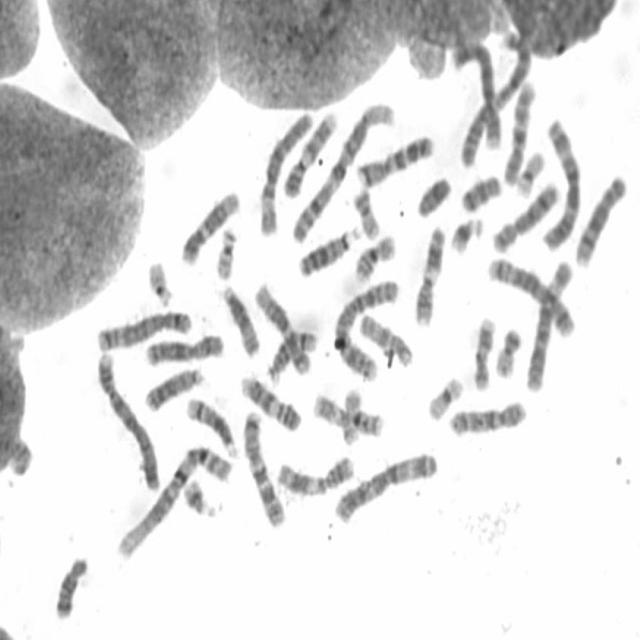A1: (285, 93, 398, 244), (112, 438, 235, 562)
A2: (454, 23, 534, 170), (329, 272, 401, 382)
A3: (329, 443, 441, 526), (538, 110, 583, 252)
B4: (92, 342, 163, 493), (446, 31, 505, 152)
B5: (483, 248, 578, 340), (92, 302, 195, 353)
C10: (498, 72, 538, 188), (444, 392, 529, 439)
C11: (272, 446, 357, 498), (410, 218, 448, 328)
C12: (250, 274, 315, 377), (176, 181, 242, 266)
C6: (254, 104, 315, 238), (522, 251, 576, 394)
C7: (238, 402, 288, 529), (352, 125, 436, 188)
C8: (570, 166, 630, 269), (487, 173, 562, 255)
C9: (279, 103, 339, 199), (235, 366, 304, 433)
D13: (294, 218, 363, 278), (140, 359, 207, 413)
D14: (182, 389, 240, 459), (262, 320, 320, 384)
D15: (217, 276, 262, 359), (354, 306, 414, 368)
E16: (349, 226, 398, 284), (337, 387, 383, 441)
E17: (308, 390, 358, 450), (468, 309, 498, 392)
E18: (50, 547, 91, 622), (456, 165, 504, 213)
F19: (422, 368, 465, 423), (510, 142, 548, 198)
F20: (490, 319, 524, 380), (348, 181, 382, 240)
G21: (178, 471, 222, 520), (445, 208, 485, 256)
G22: (143, 252, 175, 308), (211, 220, 239, 280)
X: (140, 325, 226, 367)
Y: (411, 167, 454, 219)
